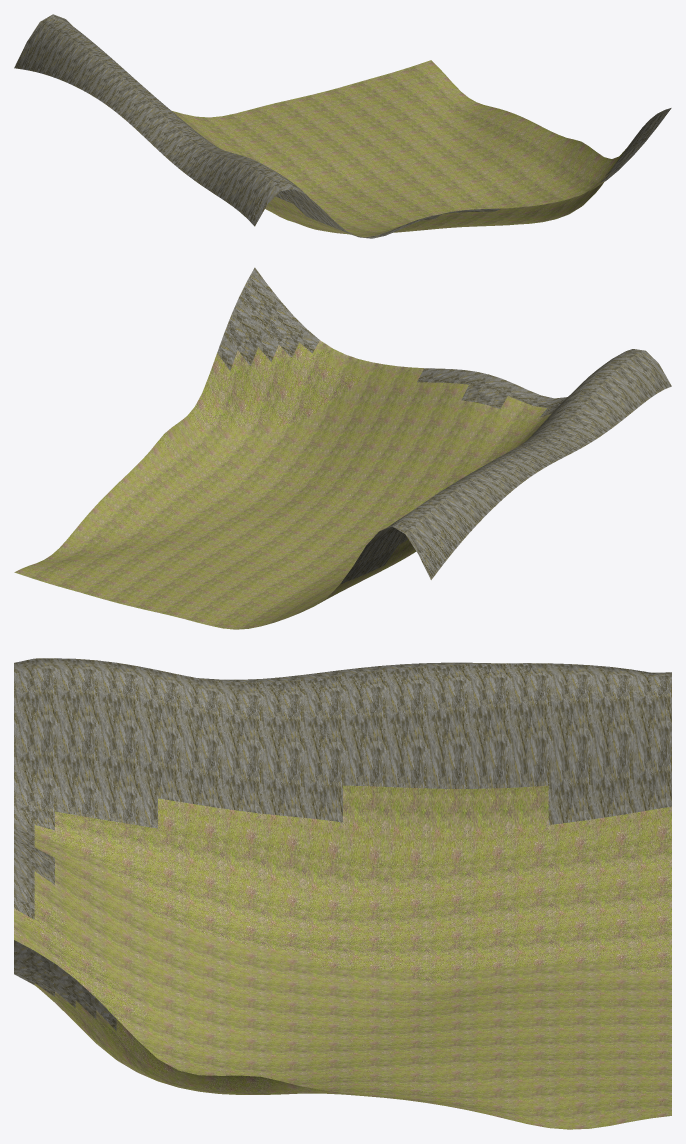
The model's file is chunk_-1_1.glb.
3 renders of one model, top to bottom at view 1: azimuth 30°, elevation 25°; view 2: azimuth 150°, elevation 25°; view 3: azimuth 270°, elevation 25°, orthographic. The views are drawn at different scales.
Visible parts, largest first — view 1: chunk_-1_1-col; view 2: chunk_-1_1-col; view 3: chunk_-1_1-col.
Part boxes in pixels (x1,y1,x2,y2): chunk_-1_1-col: (14, 14, 671, 238); chunk_-1_1-col: (14, 267, 671, 629); chunk_-1_1-col: (14, 658, 671, 1129).
Size of the model in its own units: 64 by 23.21 by 64.
2 materials, 2 textured.
